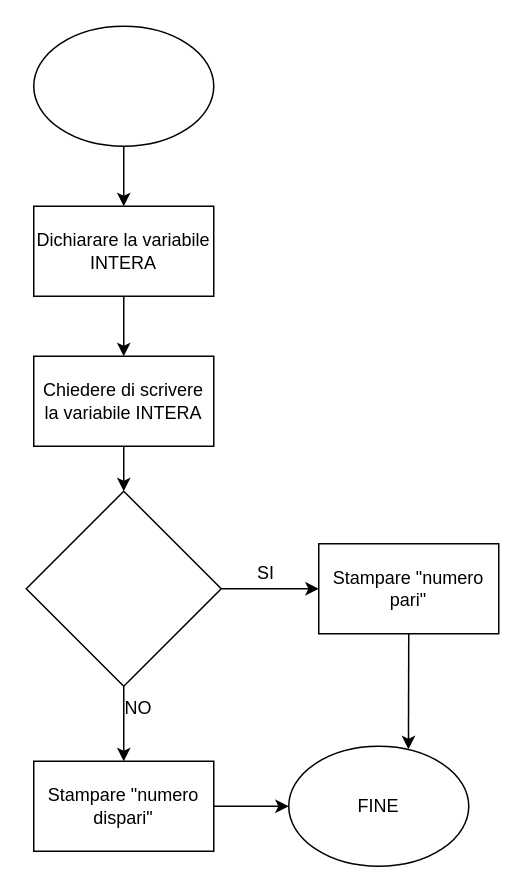
The diagram is 525 pixels wide and 893 high, and some of its shapes have lost their labels. The centre of each missing label's shape, as x and y in pixels:
"INIZIO con intestazione" belongs at point 123,85.
"numero / 2 = % 0?" belongs at point 123,588.
